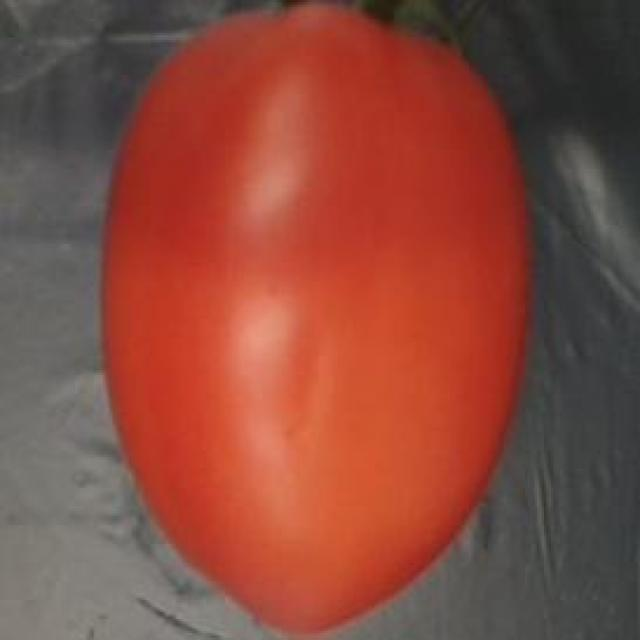ripe tomato: (80, 0, 542, 640)
